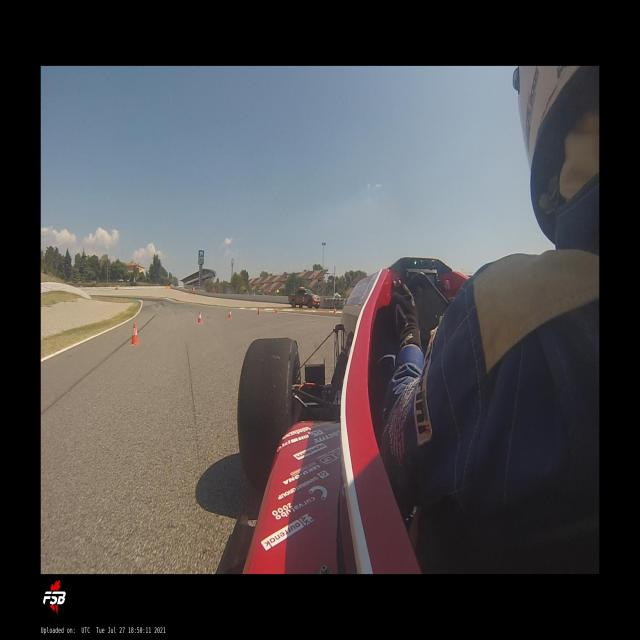orange_cone: (130, 322, 140, 346), (196, 311, 202, 324), (228, 309, 232, 319), (257, 308, 260, 316), (275, 306, 278, 313), (334, 306, 336, 314)
